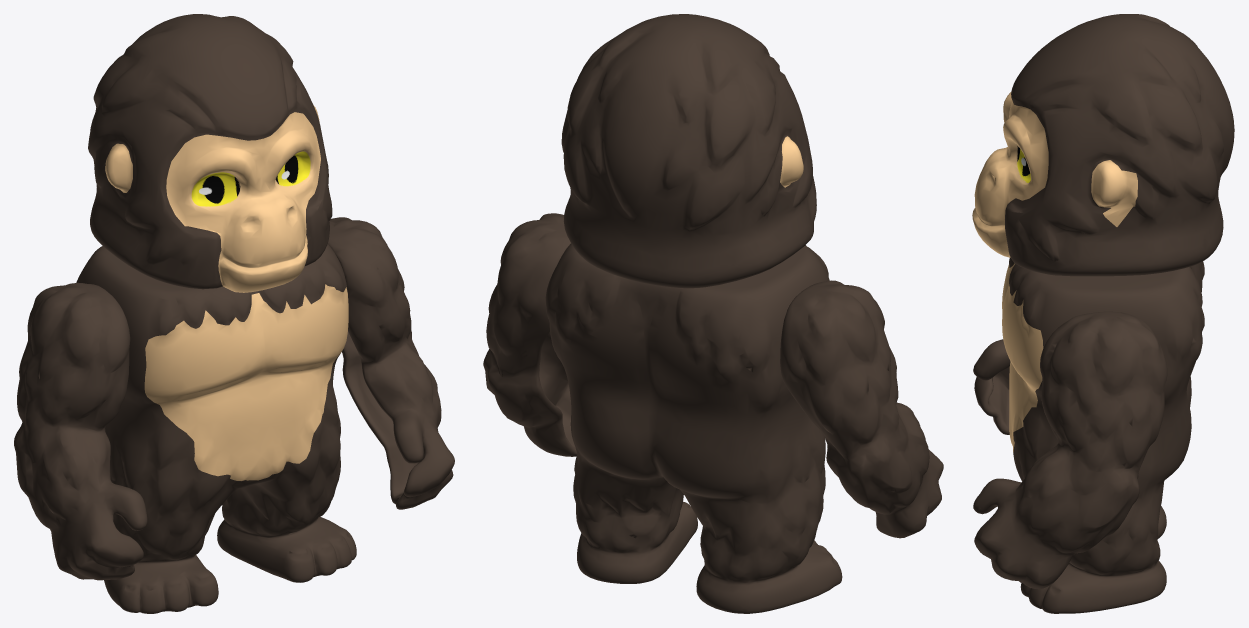
The model's file is GorilaQuieto.glb.
3 views of the same model, side by side, from view 1: azimuth 30°, elevation 25°; view 2: azimuth 150°, elevation 25°; view 3: azimuth 270°, elevation 25° (orthographic). The views are drawn at different scales.
Visible parts, largest first — view 1: HYDROPLANE GORILLA RIGHT ARM OK; view 2: HYDROPLANE GORILLA RIGHT ARM OK; view 3: HYDROPLANE GORILLA RIGHT ARM OK.
Part boxes in pixels (x1,y1,x2,y2): HYDROPLANE GORILLA RIGHT ARM OK: [14, 14, 454, 613]; HYDROPLANE GORILLA RIGHT ARM OK: [483, 14, 943, 613]; HYDROPLANE GORILLA RIGHT ARM OK: [972, 14, 1234, 613].
Size of the model in its own units: 0.5885 by 0.7572 by 0.3367.
Materials: 2 (1 with a texture image).
